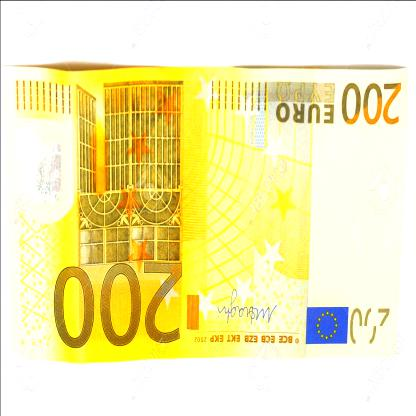euro_banknote: (6, 66, 412, 363)
